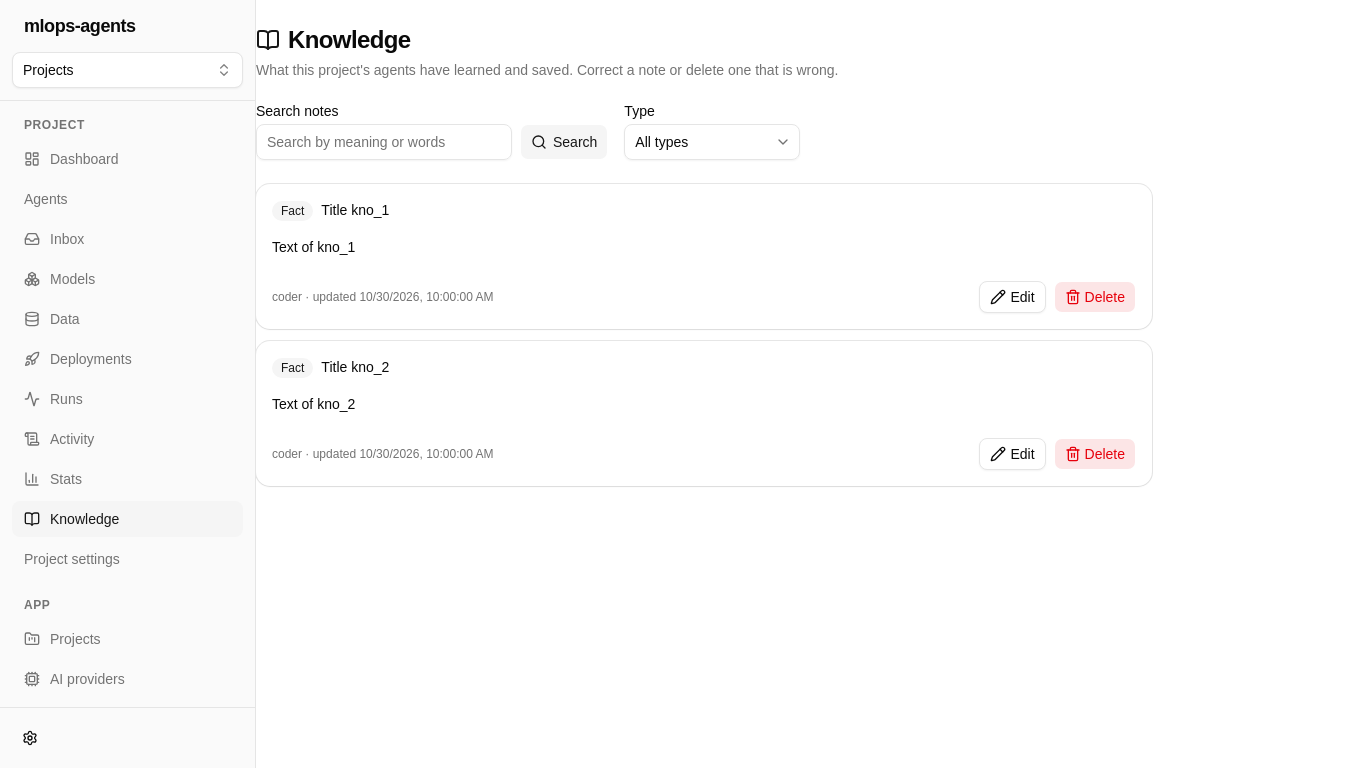
Test case: KnowledgePage › asks before deleting, sends the delete and removes the row
What coordinates should you click on to do the following:
click the 1st button "Delete"
I would click on:
 (1095, 297)
Its box is top-left (1054, 281), bottom-right (1136, 313).
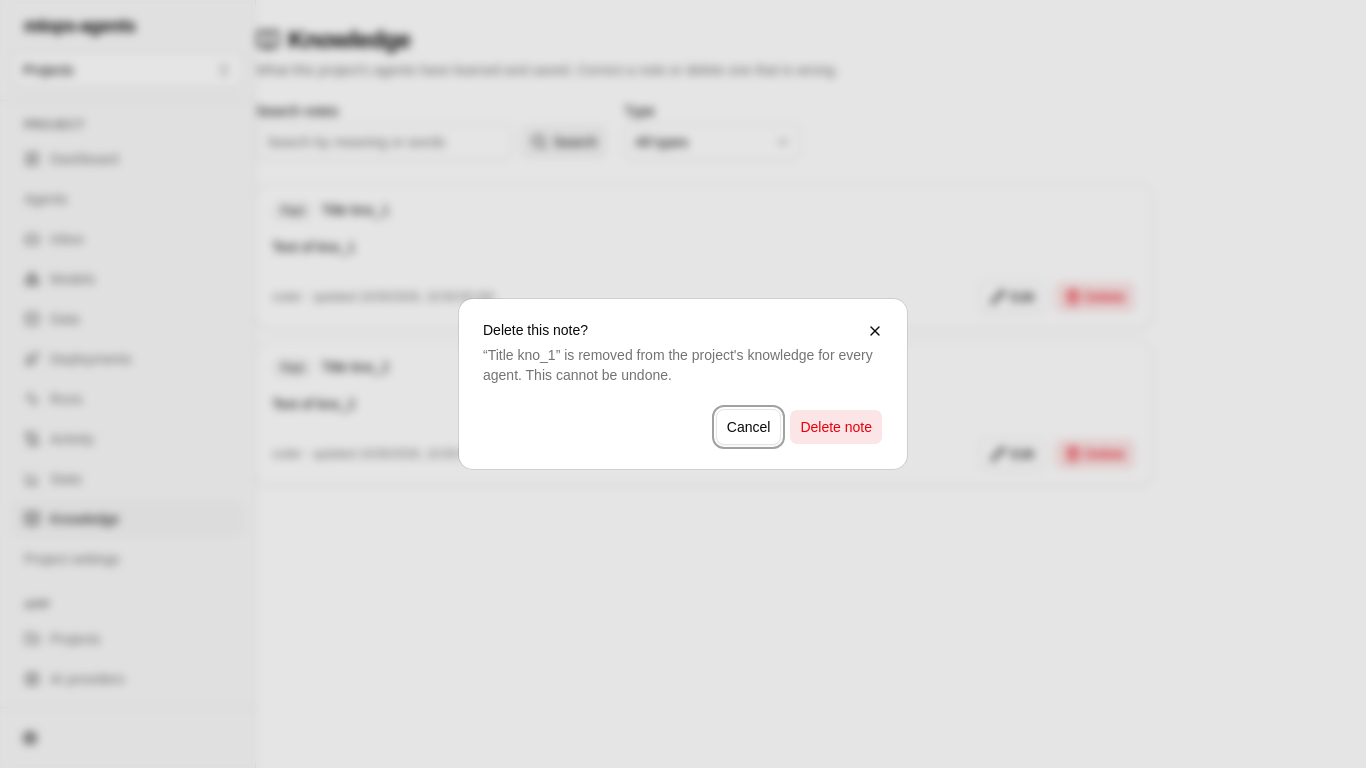
Expected: the text "Title kno_1" is shown, top-left (488, 347), bottom-right (556, 363)
What coordinates should you click on to do the following:
click the button "Delete note"
I would click on:
 (836, 427)
Its box is top-left (789, 409), bottom-right (883, 445).
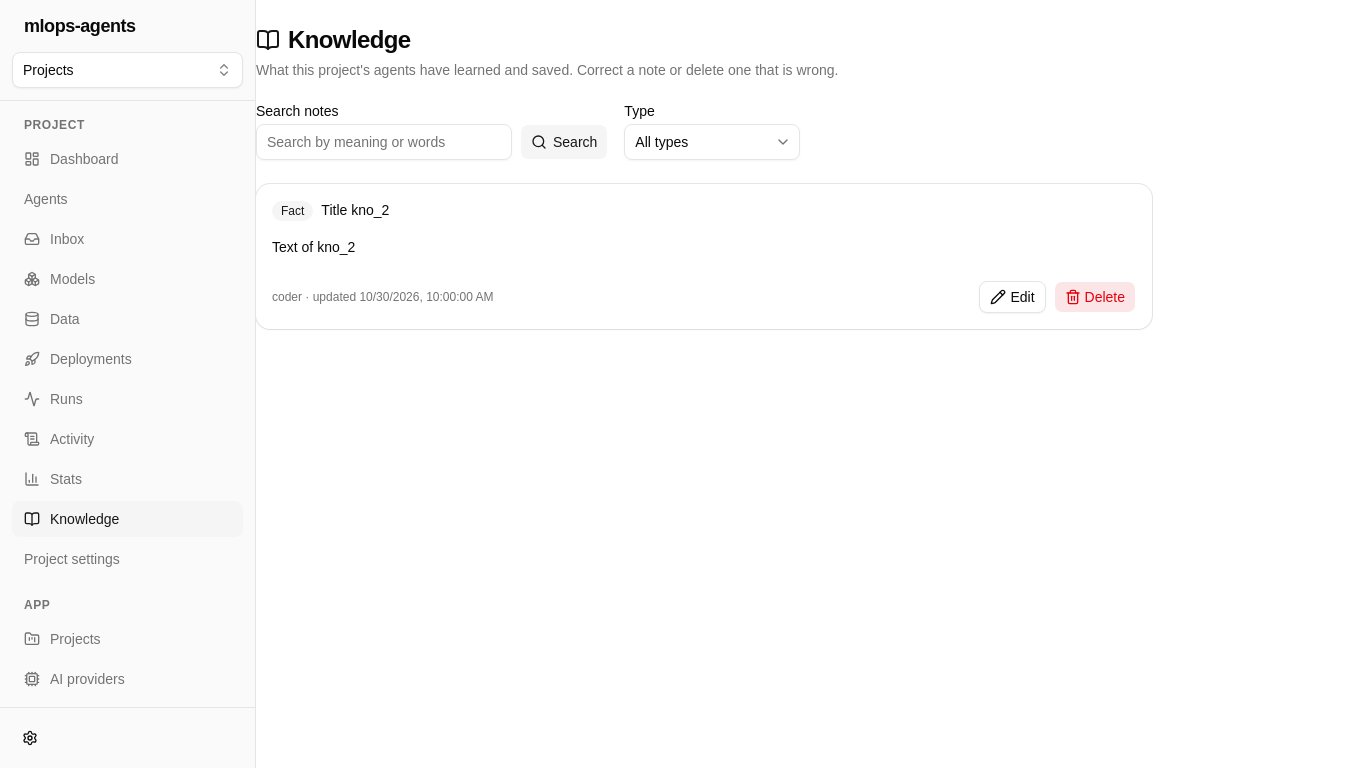
Expected: the list item with test id "note-kno_2" is shown, top-left (256, 184), bottom-right (1152, 329)
Expected: the list item with test id "note-kno_1" is gone
